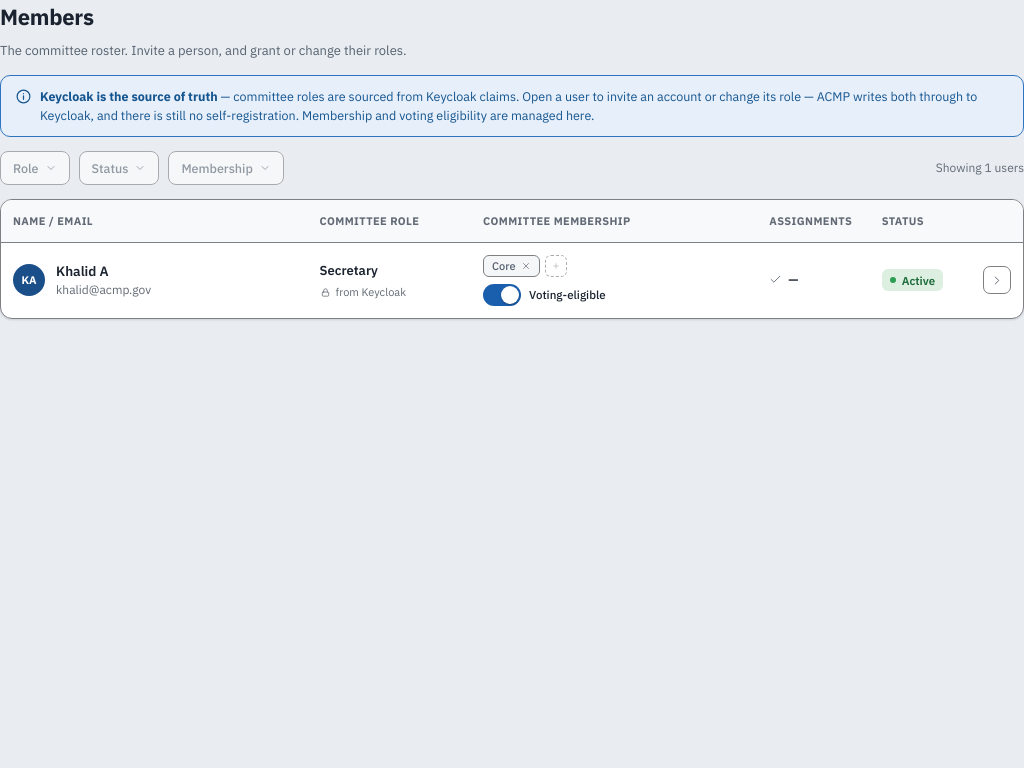
it: MembersPage (FR-156 / FR-157, OQ-069) › the user detail carries the invite and the role editor — both requirements, one surface
Click the button named "View user detail": {"x": 997, "y": 280} [983,266,1011,294]
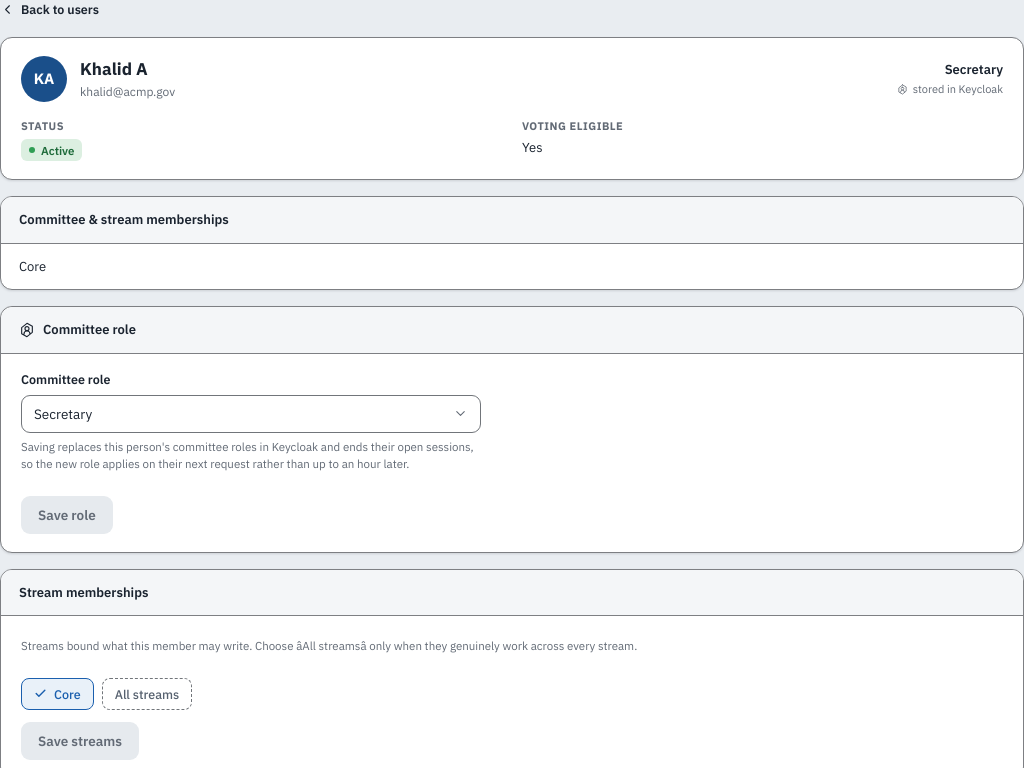
Expected: the button with aria-label "committee role" is shown, [21,395,481,433]
